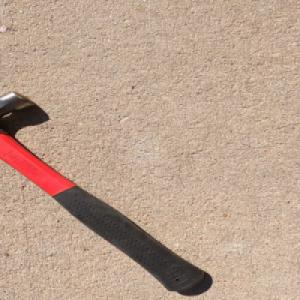Hammer: (0, 89, 210, 293)
